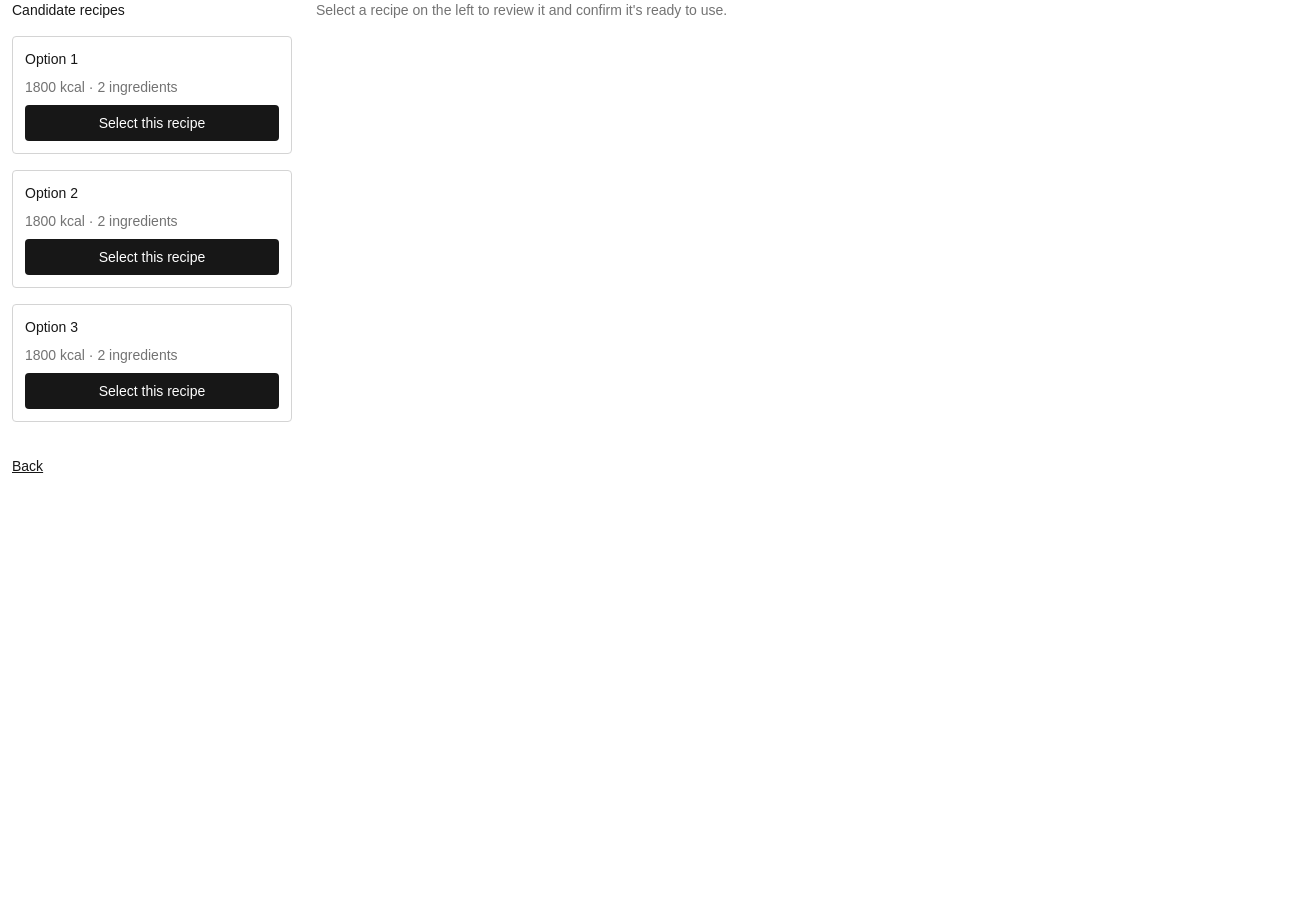
Scenario: Step5GenerateReview › hides the confirmation checklist until a candidate is selected
Check: the text "Option 1" is shown, box [25,51,78,67]
Check: the checkbox labelled "reviewed the estimated nutrition" is not shown
Click the button "Select this recipe" below "Option 1": [152, 123] box [25,105,279,141]
(page scrolled)
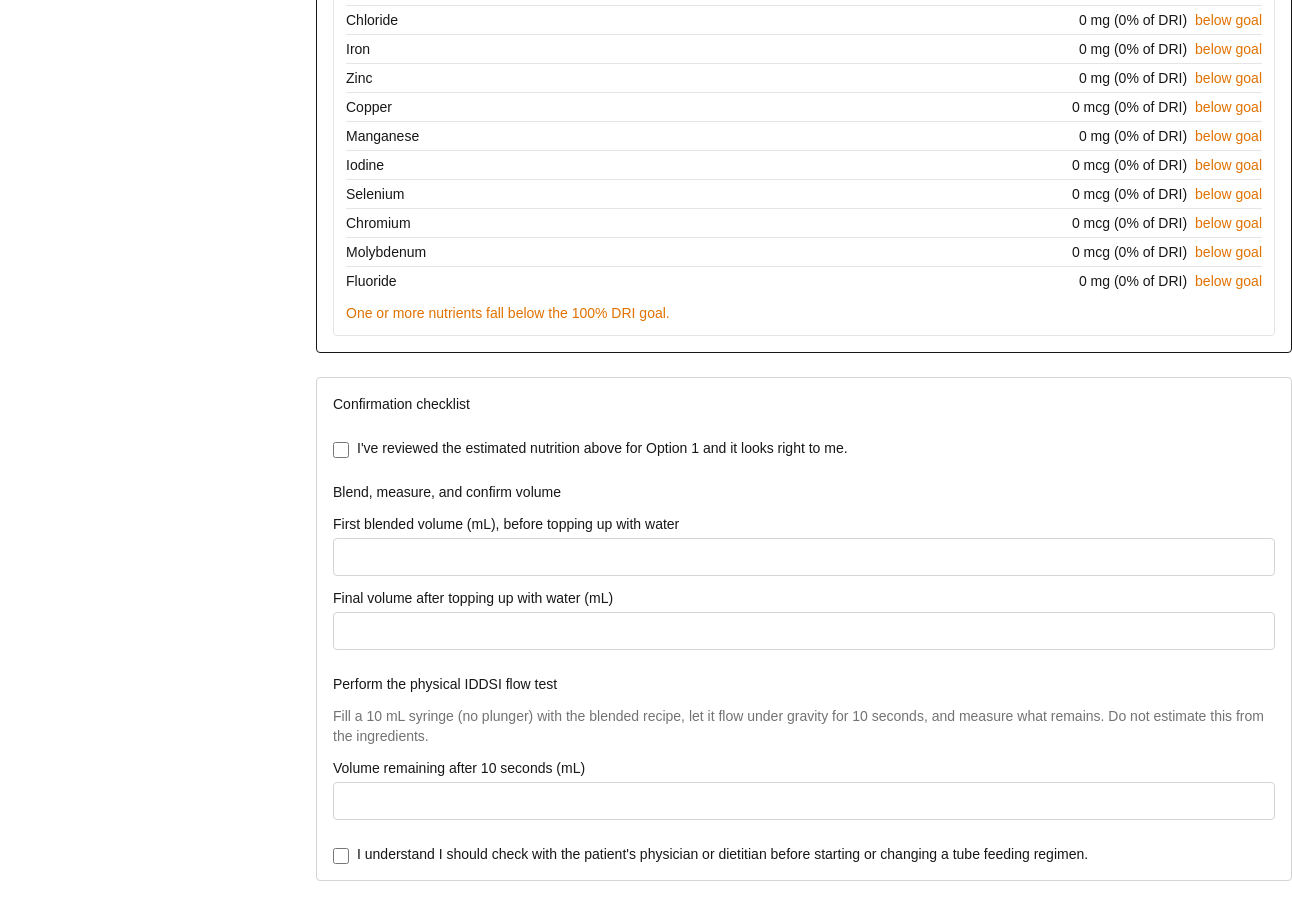
Check: the checkbox labelled "reviewed the estimated nutrition" is shown, box [333,442,349,458]
